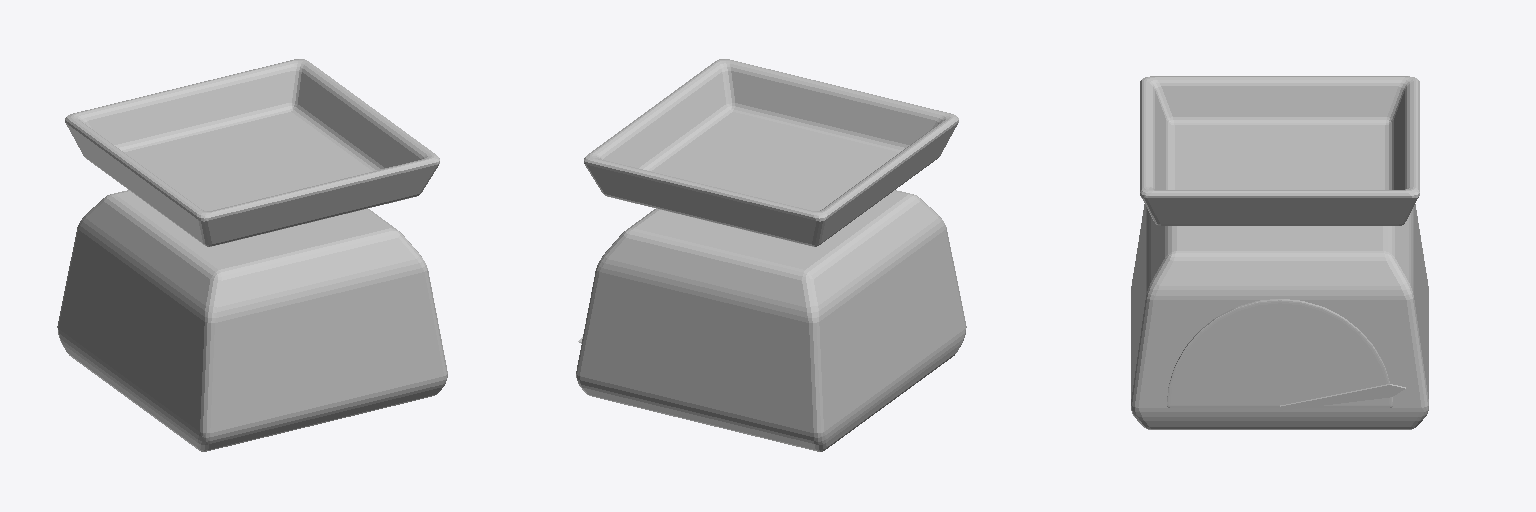
Rendered from scale_full.obj.
The picture shows the model from 3 angles: view 1: azimuth 30°, elevation 25°; view 2: azimuth 150°, elevation 25°; view 3: azimuth 270°, elevation 25°; orthographic projection.
Visible parts, largest first — view 1: corpo_Cube.001, apoio_Cube.008; view 2: corpo_Cube.001, apoio_Cube.008; view 3: apoio_Cube.008, corpo_Cube.001, Cylinder, ponteiro_cheio_Cube.005.
Boxes of the visible parts, x1,y1,x2,y2 form: corpo_Cube.001: [57, 190, 447, 451]; apoio_Cube.008: [65, 59, 439, 246]; corpo_Cube.001: [576, 190, 966, 451]; apoio_Cube.008: [584, 59, 958, 246]; apoio_Cube.008: [1140, 76, 1419, 225]; corpo_Cube.001: [1131, 204, 1428, 429]; Cylinder: [1167, 299, 1392, 407]; ponteiro_cheio_Cube.005: [1280, 384, 1405, 410].
Size of the model in its own units: 0.9625 by 0.8713 by 0.9794.